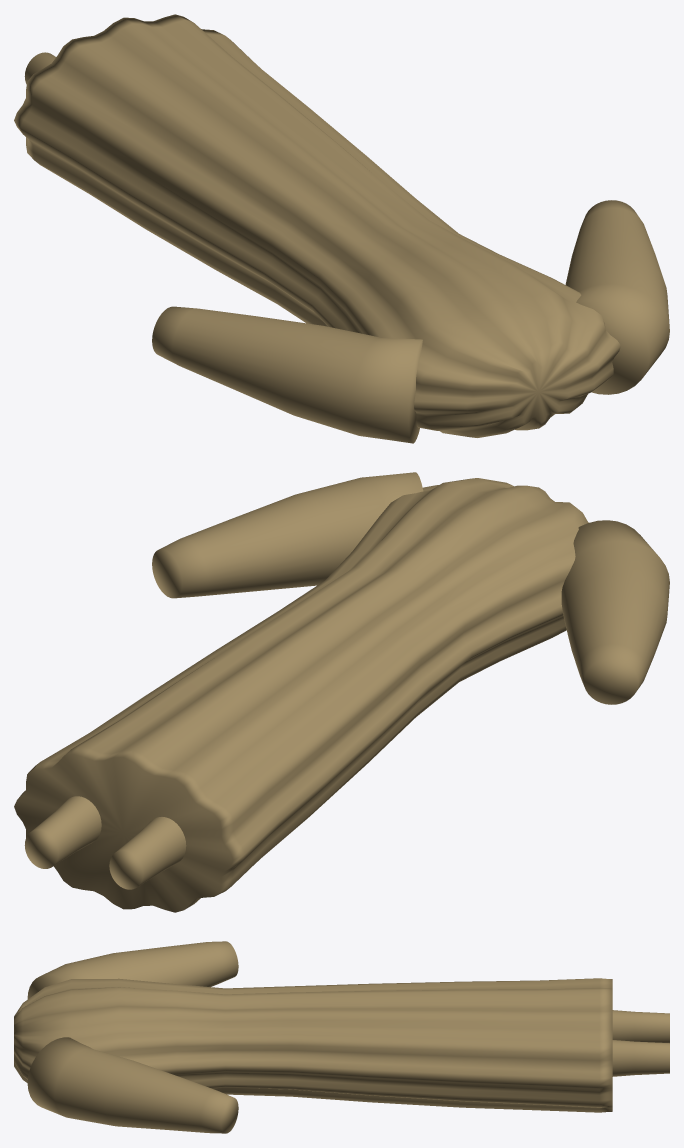
Rendered from SM_PilgrimStudyV1_Linen.obj.
3 views of the same model, one above another, from view 1: azimuth 30°, elevation 25°; view 2: azimuth 150°, elevation 25°; view 3: azimuth 270°, elevation 25° (orthographic). The views are drawn at different scales.
Parts seen in each view (by area): view 1: LongPleatedTunic, LongSleeveL, LongSleeveR; view 2: LongPleatedTunic, LongSleeveR, LongSleeveL, CalfL, CalfR; view 3: LongPleatedTunic, LongSleeveR, LongSleeveL, CalfR, CalfL.
Boxes of the visible parts, <box> form: LongPleatedTunic: <box>14,14,620,437</box>; LongSleeveL: <box>152,306,422,443</box>; LongSleeveR: <box>565,200,669,394</box>; LongPleatedTunic: <box>14,478,588,912</box>; LongSleeveR: <box>152,472,423,598</box>; LongSleeveL: <box>561,520,669,704</box>; CalfL: <box>109,817,186,889</box>; CalfR: <box>24,796,101,868</box>; LongPleatedTunic: <box>14,978,612,1112</box>; LongSleeveR: <box>27,1037,238,1133</box>; LongSleeveL: <box>27,941,238,998</box>; CalfR: <box>612,1040,669,1076</box>; CalfL: <box>612,1010,669,1042</box>.
Size of the model in its own units: 92.05 by 27.69 by 149.
